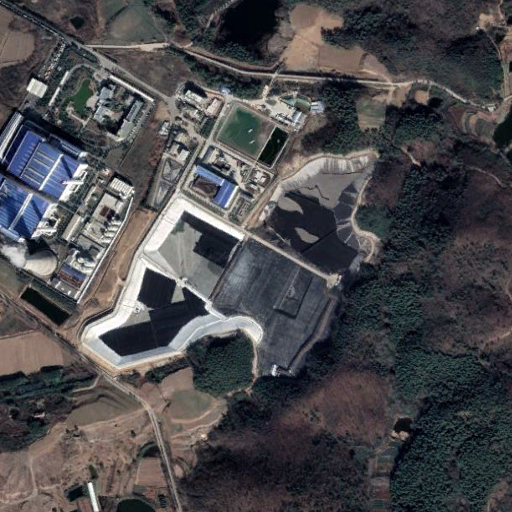lf: (81, 136, 382, 376)
